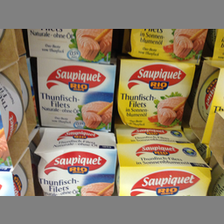fish: (35, 56, 116, 132), (118, 58, 196, 131), (117, 141, 211, 196), (35, 133, 116, 195)
